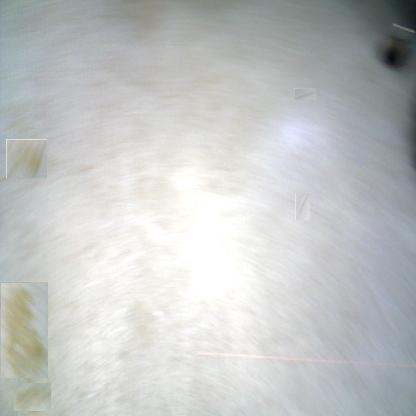liquid: (0, 282, 48, 378), (6, 138, 47, 179), (16, 380, 48, 414)
mark: (292, 196, 313, 217), (294, 88, 316, 100)
